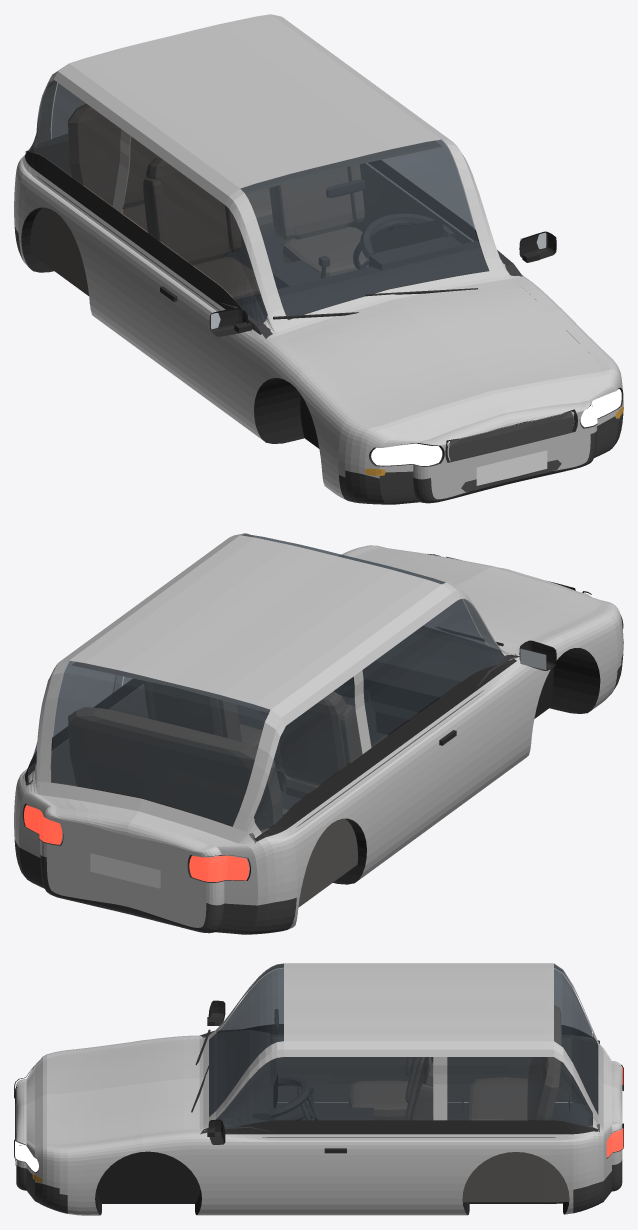
The model's file is car_wasp.fbx.
3 renders of one model, top to bottom at view 1: azimuth 30°, elevation 25°; view 2: azimuth 150°, elevation 25°; view 3: azimuth 270°, elevation 25°, orthographic. The views are drawn at different scales.
Visible parts, largest first — view 1: wasp__glass, wasp__roof, wasp__hood, wasp__seats, wasp__interior, wasp__doorR, wasp__quarterR, wasp__pillars, wasp__cabin, wasp__fenderFR, wasp__seals, wasp__fascia (+10 smaller); view 2: wasp__glass, wasp__roof, wasp__seats, wasp__quarterR, wasp__hood, wasp__doorR, wasp__rearPanel, wasp__interior, wasp__pillars, wasp__trunk, wasp__cabin, wasp__seals (+6 smaller); view 3: wasp__glass, wasp__roof, wasp__hood, wasp__cabin, wasp__doorL, wasp__quarterL, wasp__interior, wasp__seats, wasp__fenderFL, wasp__seals, wasp__pillars, wasp__wells (+7 smaller).
Boxes of the visible parts, bbox=[...] form: wasp__glass: bbox=[29, 80, 503, 322]; wasp__roof: bbox=[58, 14, 452, 196]; wasp__hood: bbox=[266, 276, 612, 445]; wasp__seats: bbox=[68, 104, 371, 299]; wasp__interior: bbox=[220, 179, 522, 338]; wasp__doorR: bbox=[145, 259, 259, 435]; wasp__quarterR: bbox=[14, 155, 156, 359]; wasp__pillars: bbox=[28, 67, 506, 328]; wasp__cabin: bbox=[25, 140, 472, 334]; wasp__fenderFR: bbox=[248, 335, 420, 499]; wasp__seals: bbox=[25, 151, 478, 334]; wasp__fascia: bbox=[413, 401, 597, 499]; wasp__glass: bbox=[29, 534, 504, 832]; wasp__roof: bbox=[58, 535, 452, 717]; wasp__seats: bbox=[68, 681, 362, 830]; wasp__quarterR: bbox=[217, 737, 424, 929]; wasp__hood: bbox=[340, 545, 612, 654]; wasp__doorR: bbox=[413, 661, 528, 837]; wasp__rearPanel: bbox=[40, 808, 224, 927]; wasp__interior: bbox=[237, 629, 519, 809]; wasp__pillars: bbox=[28, 533, 511, 837]; wasp__trunk: bbox=[26, 626, 519, 856]; wasp__cabin: bbox=[25, 654, 517, 907]; wasp__seals: bbox=[25, 659, 516, 840]; wasp__glass: bbox=[209, 964, 597, 1126]; wasp__roof: bbox=[284, 963, 553, 1049]; wasp__hood: bbox=[16, 1035, 199, 1149]; wasp__cabin: bbox=[203, 1034, 599, 1202]; wasp__doorL: bbox=[209, 1134, 372, 1215]; wasp__quarterL: bbox=[372, 1125, 611, 1215]; wasp__interior: bbox=[200, 1009, 588, 1134]; wasp__seats: bbox=[349, 1005, 561, 1120]; wasp__fenderFL: bbox=[26, 1134, 208, 1215]; wasp__seals: bbox=[225, 1024, 598, 1134]; wasp__pillars: bbox=[209, 963, 598, 1128]; wasp__wells: bbox=[95, 1096, 569, 1215].
Bounding box in the file's own units: 2.1 × 1.25 × 4.12.
